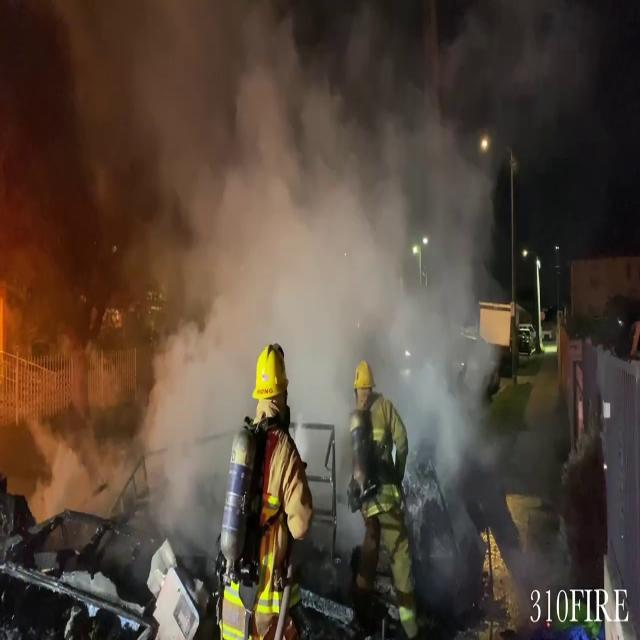Smoke: (136, 0, 516, 493)
